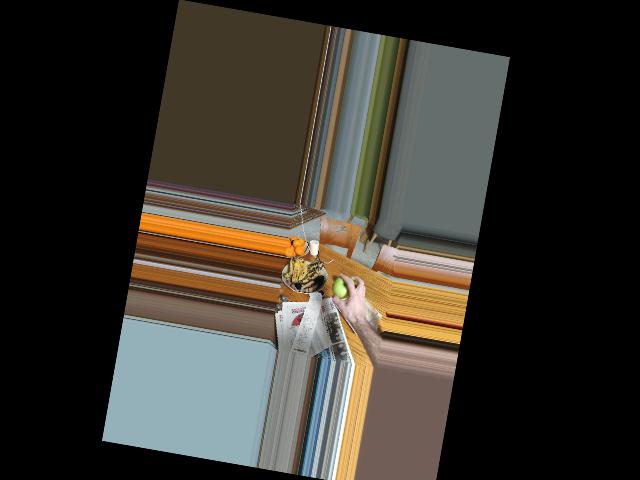apple: (332, 276, 353, 300)
